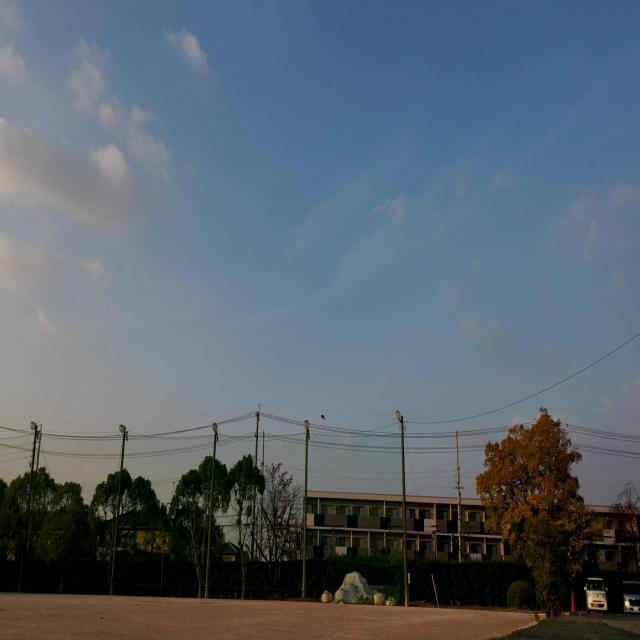Birds: (318, 410, 328, 423)
